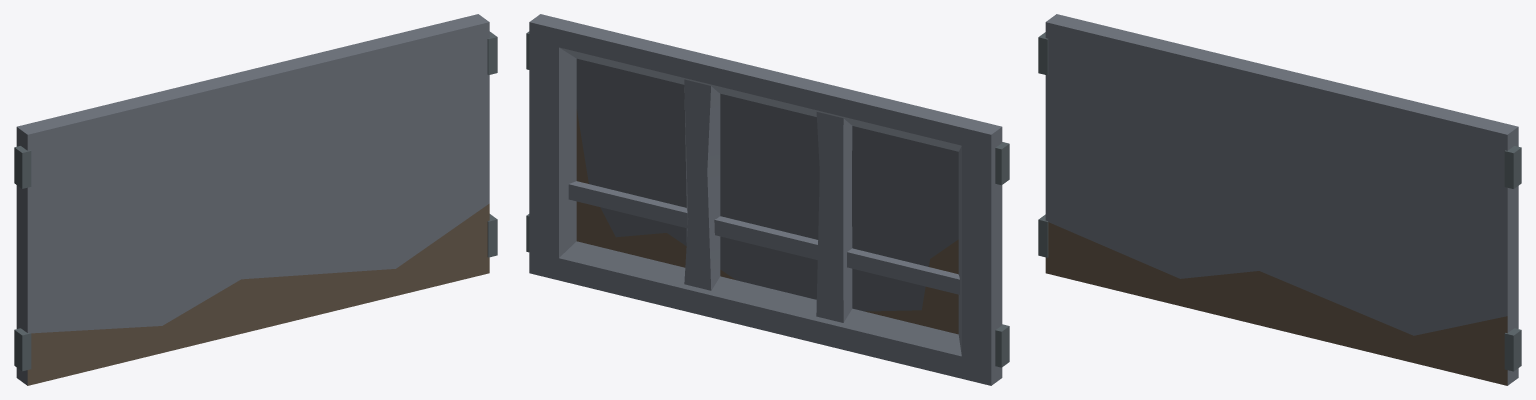
Rendered from SM_Veh_BigRig_DumpTray_Door_01.obj.
3 views of the same model, side by side, from view 1: azimuth 30°, elevation 25°; view 2: azimuth 150°, elevation 25°; view 3: azimuth 330°, elevation 25° (orthographic).
Parts seen in each view (by area): view 1: SM_Veh_BigRig_DumpTray_Door_01_0; view 2: SM_Veh_BigRig_DumpTray_Door_01_0; view 3: SM_Veh_BigRig_DumpTray_Door_01_0.
Boxes of the visible parts, bbox=[...] form: SM_Veh_BigRig_DumpTray_Door_01_0: bbox=[14, 14, 497, 385]; SM_Veh_BigRig_DumpTray_Door_01_0: bbox=[526, 14, 1009, 385]; SM_Veh_BigRig_DumpTray_Door_01_0: bbox=[1038, 14, 1521, 385].
Size of the model in its own units: 3 by 1.51 by 0.1311.
1 material, 1 textured.
